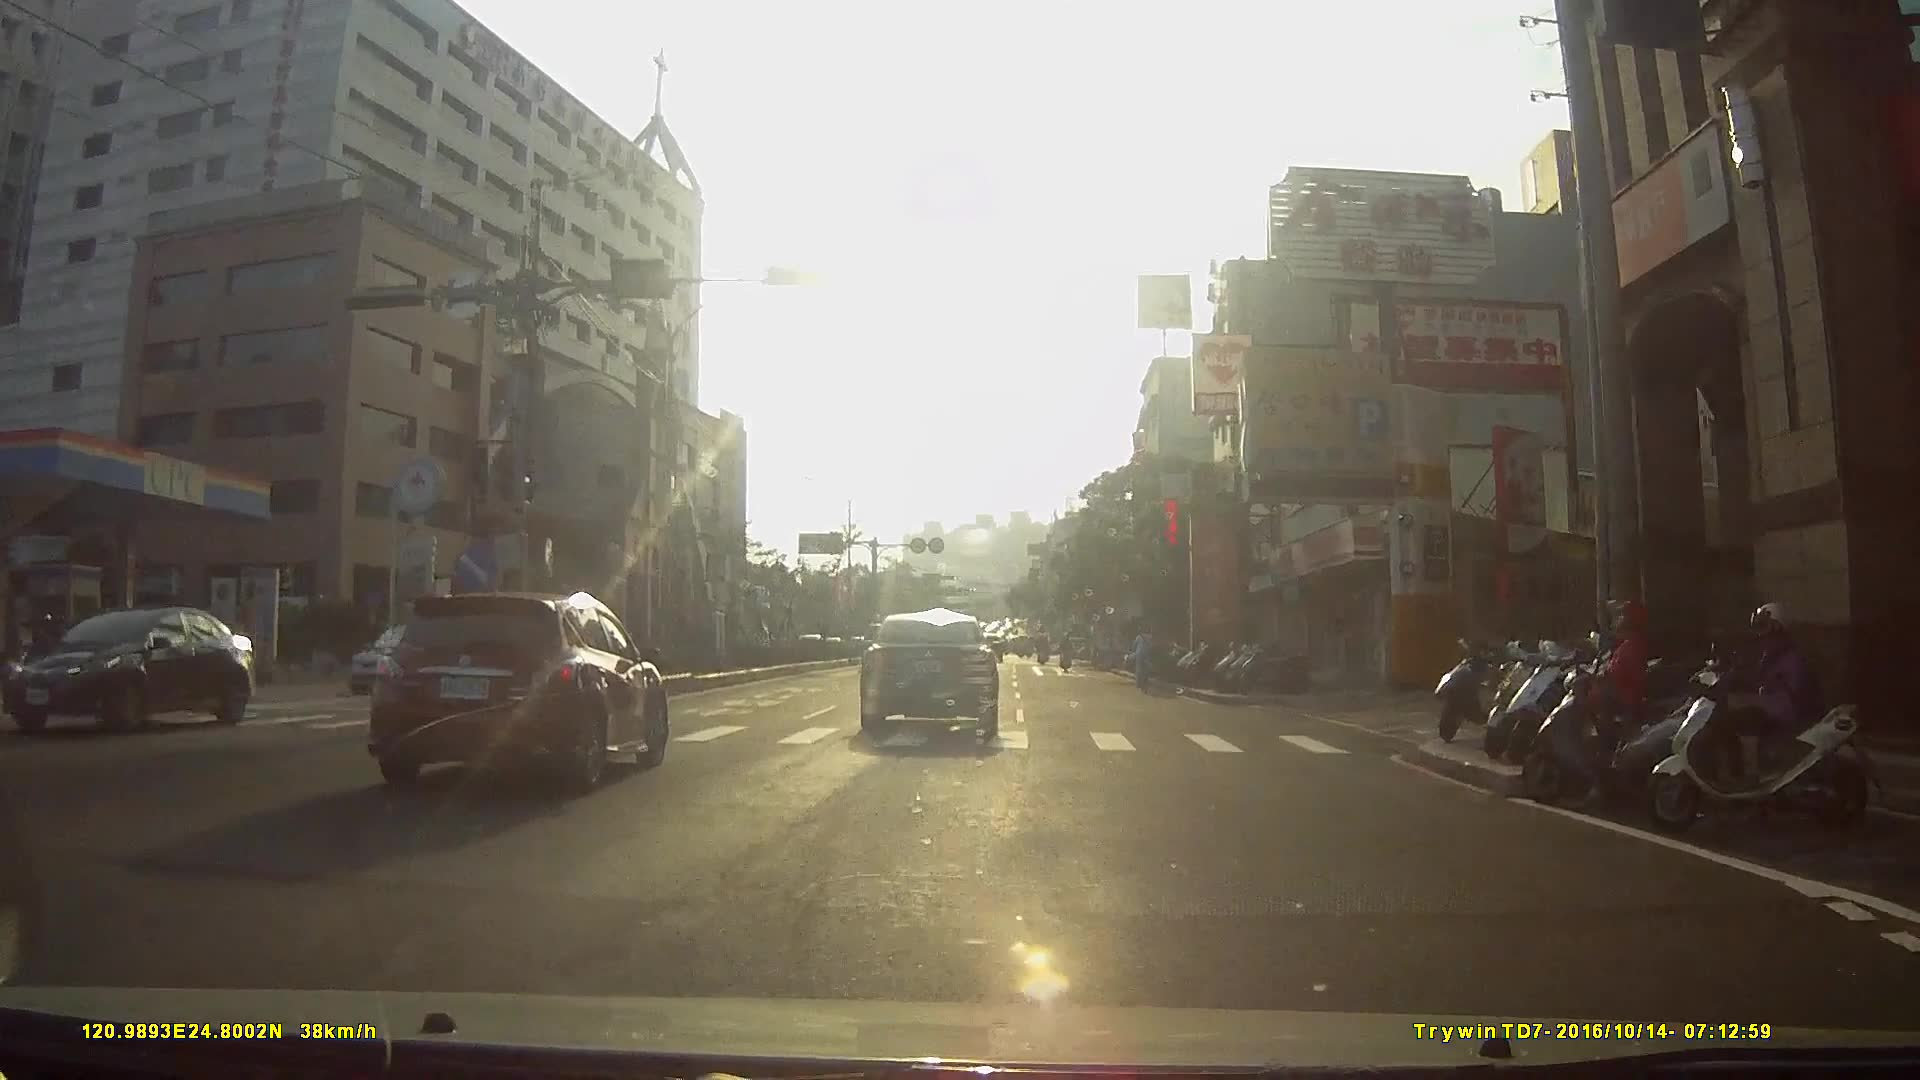rider: (1635, 595, 1891, 840), (1518, 589, 1749, 820), (21, 613, 66, 693), (1130, 624, 1158, 697)
vehicle: (373, 575, 681, 797), (17, 594, 264, 736), (855, 607, 1013, 738), (763, 607, 822, 662)
